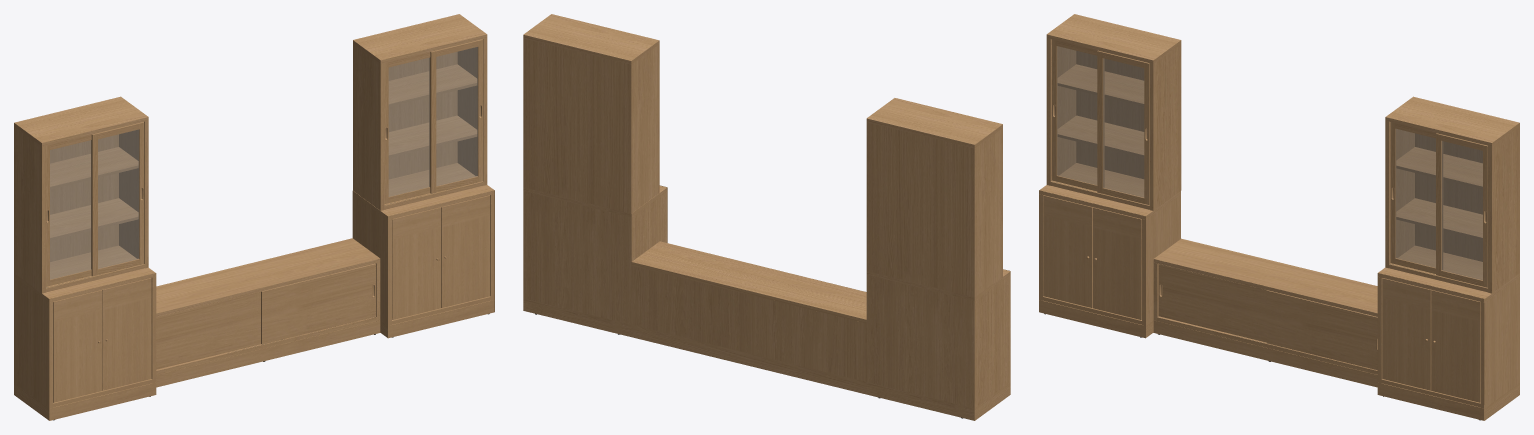
The picture shows the model from 3 angles, left to right: view 1: azimuth 30°, elevation 25°; view 2: azimuth 150°, elevation 25°; view 3: azimuth 330°, elevation 25°; orthographic projection.
Parts seen in each view (by area): view 1: Mesh_0, Mesh_1; view 2: Mesh_0; view 3: Mesh_0, Mesh_1.
Part boxes in pixels (box(x1,y1,x2,y2)): Mesh_0: box(14, 14, 494, 420); Mesh_1: box(50, 47, 477, 279); Mesh_0: box(523, 14, 1010, 420); Mesh_0: box(1039, 14, 1519, 420); Mesh_1: box(1057, 46, 1482, 279).
Size of the model in its own units: 3.42 by 2 by 0.4876.
Materials: 7 (3 with a texture image).
